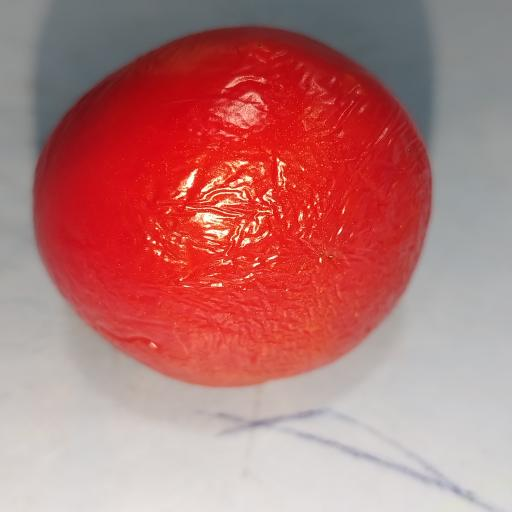spoiled: (34, 27, 431, 386)
